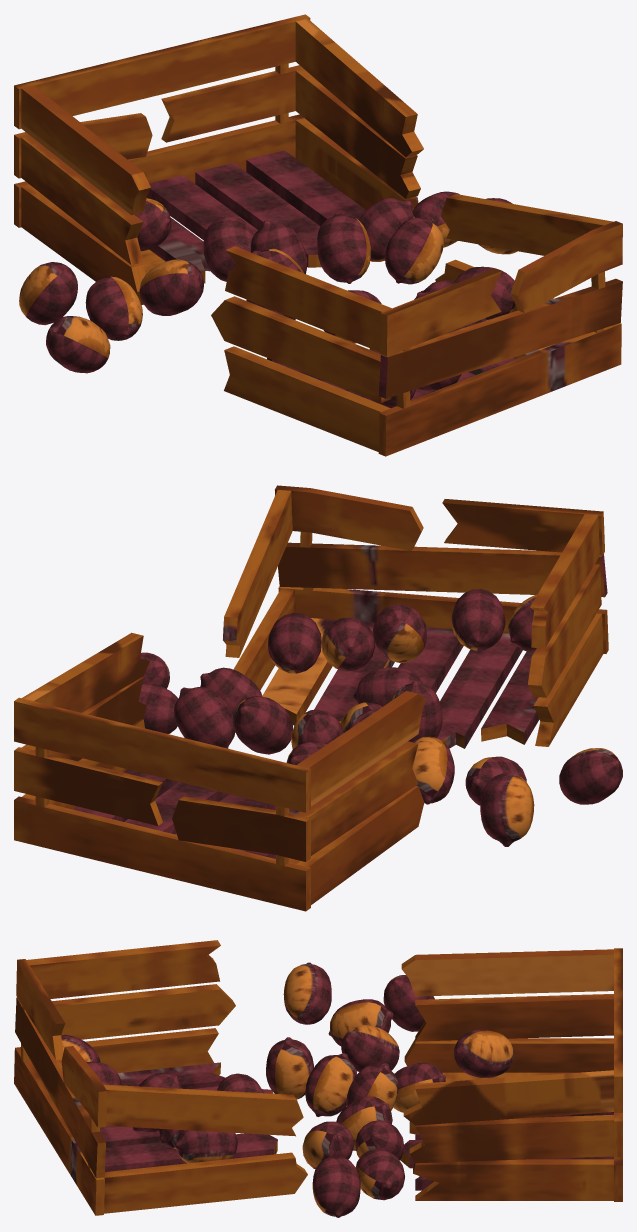
File: broken fruit crate_2.fbx
3 renders of one model, top to bottom at view 1: azimuth 30°, elevation 25°; view 2: azimuth 150°, elevation 25°; view 3: azimuth 270°, elevation 25°, orthographic. The views are drawn at different scales.
Visible parts, largest first — view 1: Cube.045, Cube.044, Plane.2025, Plane.2029, Plane.2027, Plane.2020, Plane.2015, Plane.2031, Plane.2022, Plane.2028, Plane.2032, Plane.2016 (+2 smaller); view 2: Cube.045, Cube.044, Plane.2015, Plane.2027, Plane.2028, Plane.2029, Plane.2030, Plane.2017, Plane.2014, Plane.2023, Plane.2020, Plane.2026 (+8 smaller); view 3: Cube.044, Cube.045, Plane.2027, Plane.2013, Plane.2033, Plane.2016, Plane.2034, Plane.2020, Plane.2019, Plane.2017, Plane.2025, Plane.2031 (+9 smaller).
Boxes of the visible parts, x1,y1,x2,y2 form: Cube.045: (14,14,423,304); Cube.044: (211,194,622,456); Plane.2025: (384,217,443,284); Plane.2029: (317,211,370,283); Plane.2027: (46,316,110,373); Plane.2020: (139,259,203,315); Plane.2015: (19,262,77,325); Plane.2031: (85,276,142,340); Plane.2022: (203,216,253,281); Plane.2028: (358,198,415,261); Plane.2032: (250,220,307,273); Plane.2016: (135,198,171,251); Cube.045: (14,632,425,911); Cube.044: (223,485,608,748); Plane.2015: (480,770,534,846); Plane.2027: (559,748,622,804); Plane.2028: (174,687,235,748); Plane.2029: (232,696,292,754); Plane.2030: (451,589,505,650); Plane.2017: (268,612,321,673); Plane.2014: (373,604,426,662); Plane.2023: (321,617,375,671); Plane.2020: (412,736,454,804); Plane.2026: (353,667,422,706); Cube.044: (14,940,307,1215); Cube.045: (400,948,622,1201); Plane.2027: (283,962,331,1024); Plane.2013: (312,1156,360,1217); Plane.2033: (305,1053,356,1116); Plane.2016: (454,1029,513,1077); Plane.2034: (266,1037,313,1099); Plane.2020: (341,1025,399,1071); Plane.2019: (355,1148,404,1200); Plane.2017: (175,1130,237,1163); Plane.2025: (302,1121,353,1169); Plane.2031: (328,999,393,1046).
Size of the model in its own units: 45.5 by 13.31 by 53.78.
